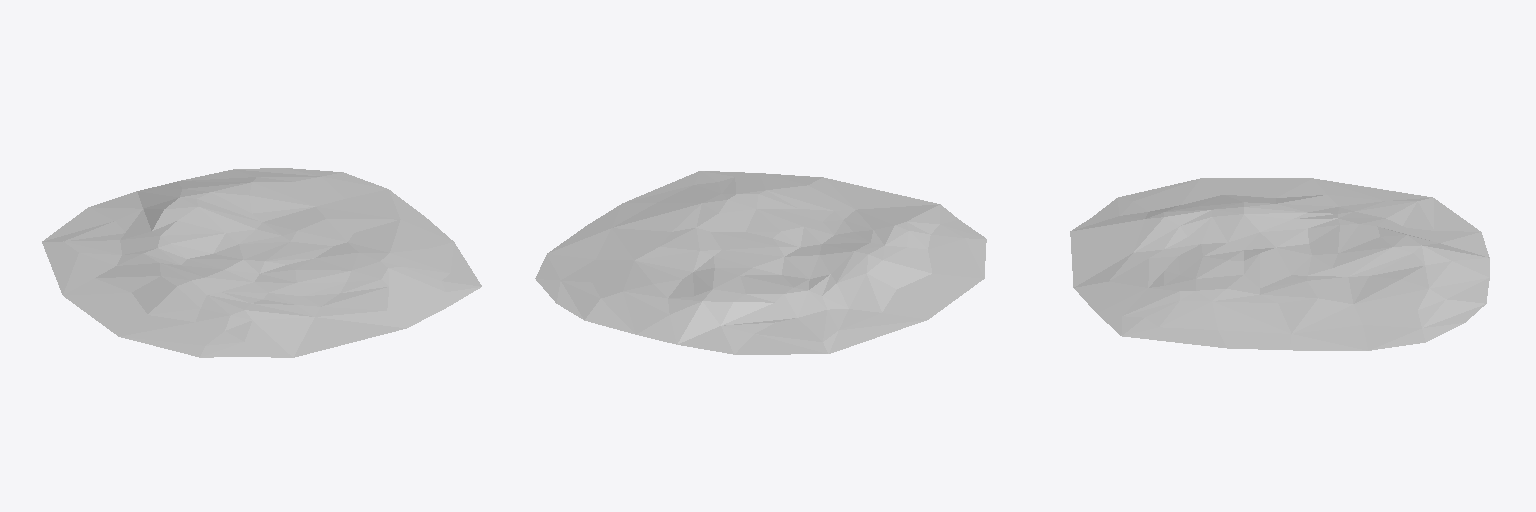
File: SM_Generic_Ground_Wheat_01.obj
3 views of the same model, side by side, from view 1: azimuth 30°, elevation 25°; view 2: azimuth 150°, elevation 25°; view 3: azimuth 270°, elevation 25° (orthographic).
Bounding box in the file's own units: 553 × 25.75 × 568.